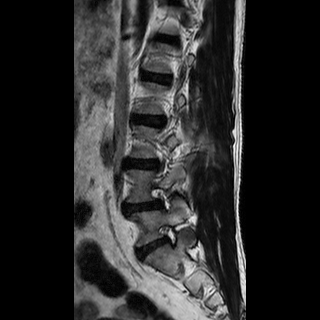RFS1: (154, 217, 183, 252)
